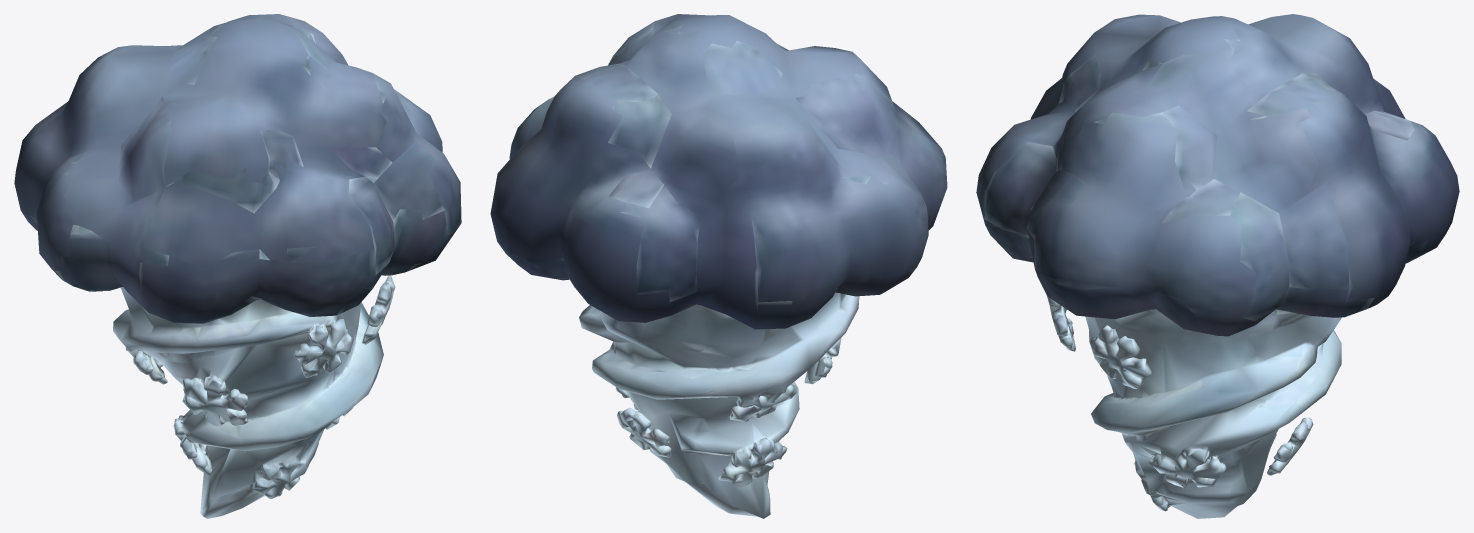
The model's file is blizzard-diet128.glb.
The picture shows the model from 3 angles, left to right: view 1: azimuth 30°, elevation 25°; view 2: azimuth 150°, elevation 25°; view 3: azimuth 270°, elevation 25°; orthographic projection. The views are drawn at different scales.
Visible parts, largest first — view 1: Mesh_0; view 2: Mesh_0; view 3: Mesh_0.
Part boxes in pixels (bbox=[...]): Mesh_0: bbox=[14, 14, 461, 518]; Mesh_0: bbox=[490, 14, 947, 518]; Mesh_0: bbox=[976, 14, 1459, 518].
Bounding box in the file's own units: 1.61 × 1.89 × 1.63.
1 material, 1 textured.
